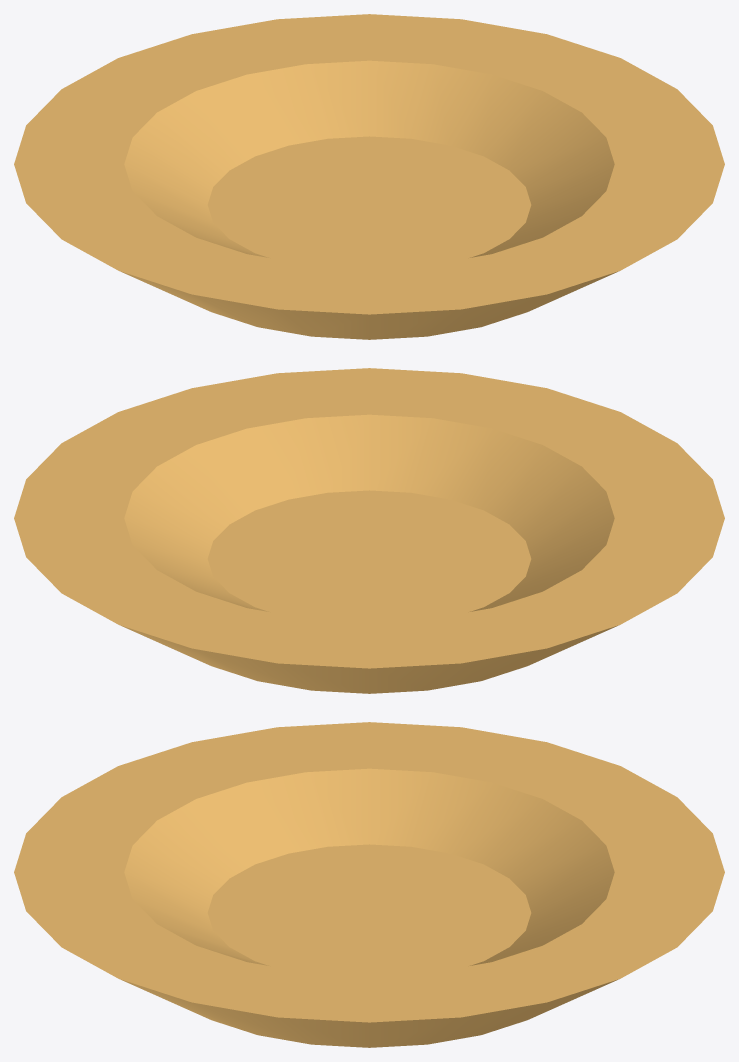
Rendered from detailPlate.obj.
3 renders of one model, top to bottom at view 1: azimuth 30°, elevation 25°; view 2: azimuth 150°, elevation 25°; view 3: azimuth 270°, elevation 25°, orthographic.
Parts seen in each view (by area): view 1: detailPlate; view 2: detailPlate; view 3: detailPlate.
Boxes of the visible parts, <box> form: detailPlate: <box>14,14,724,339</box>; detailPlate: <box>14,368,724,693</box>; detailPlate: <box>14,722,724,1047</box>.
Size of the model in its own units: 0.2535 by 0.0319 by 0.2535.
